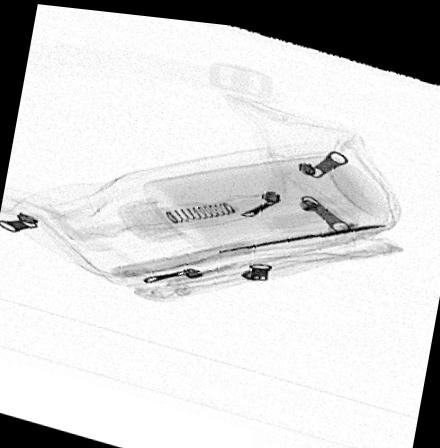Knife: (107, 213, 387, 276)
